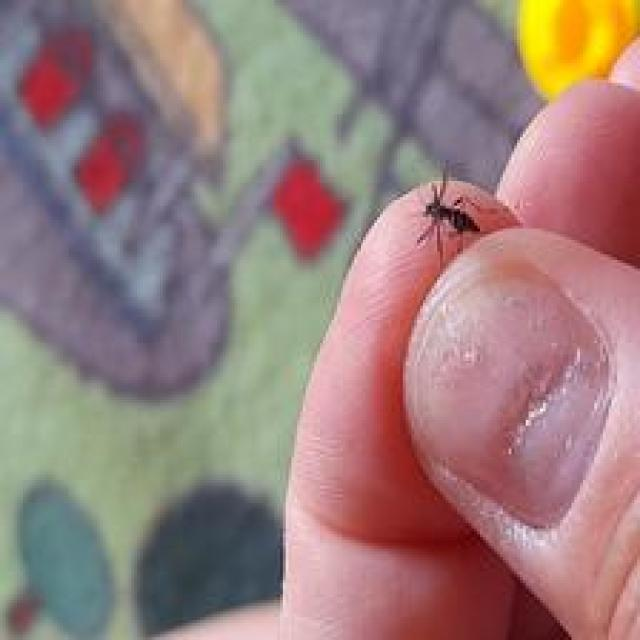Aedes albopictus: (414, 162, 483, 267)
